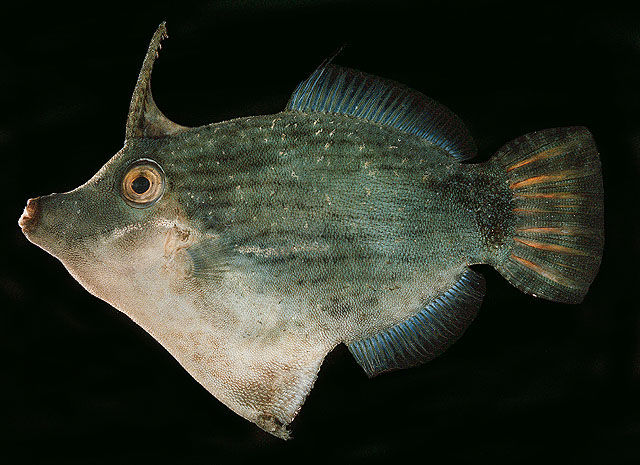fish: (16, 21, 607, 441)
